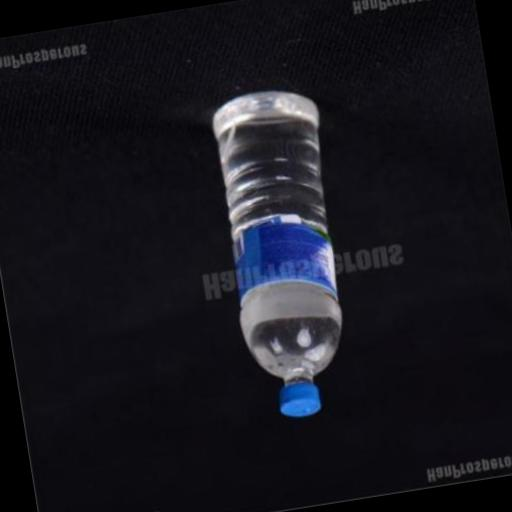Coca: (202, 78, 374, 437)
